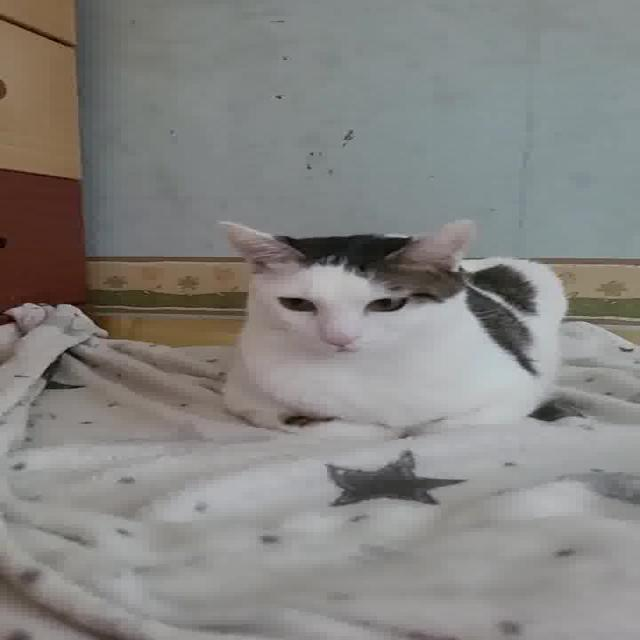cat: (218, 208, 572, 442)
